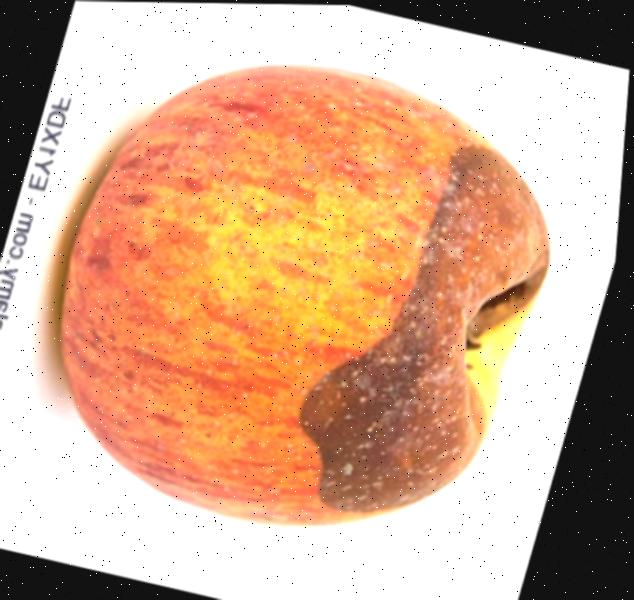ROT: (9, 1, 615, 591)
